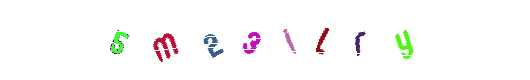2: (200, 0, 280, 80)
3: (212, 0, 292, 80)
5: (171, 0, 251, 80)
I: (225, 0, 305, 80)
L: (234, 0, 314, 80)
M: (178, 0, 258, 80)
R: (244, 0, 324, 80)
Y: (269, 0, 349, 80)
